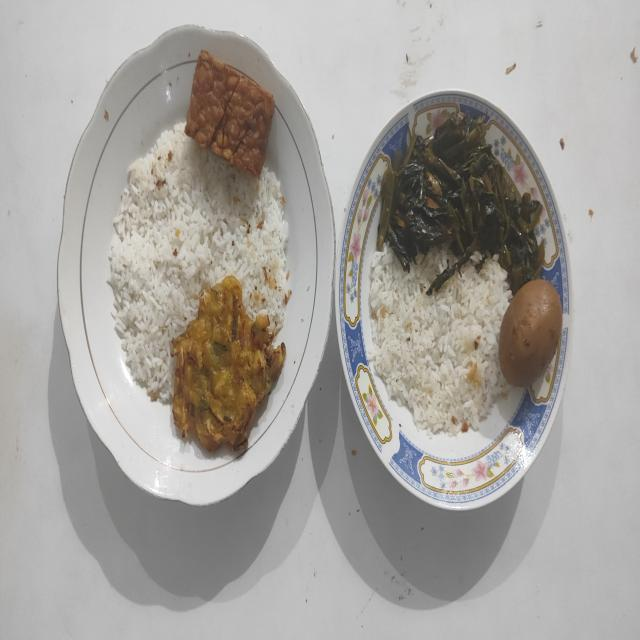nasi_putih: (108, 124, 290, 402), (368, 248, 510, 436)
tempe_goreng: (184, 50, 274, 176)
tumis_kangkung: (378, 114, 544, 295)
